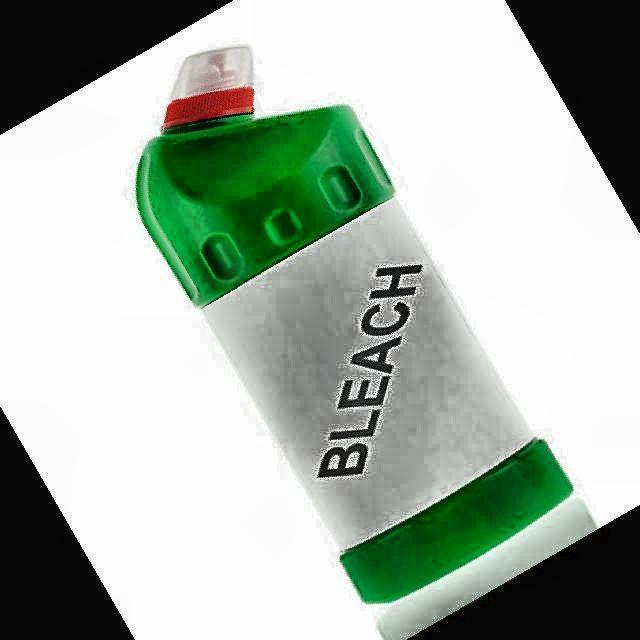plastic: (136, 48, 572, 602)
